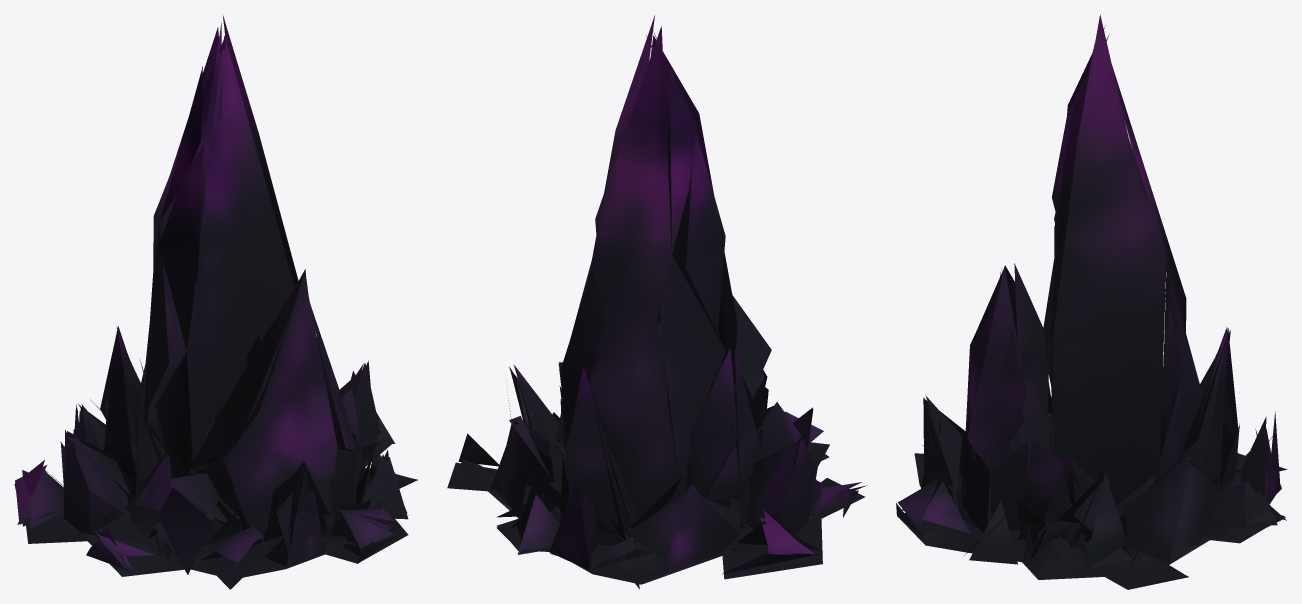
The model's file is biome_spire_lo.glb.
The picture shows the model from 3 angles, left to right: view 1: azimuth 30°, elevation 25°; view 2: azimuth 150°, elevation 25°; view 3: azimuth 270°, elevation 25°; orthographic projection.
Visible parts, largest first — view 1: Mesh_0; view 2: Mesh_0; view 3: Mesh_0.
Boxes of the visible parts, x1,y1,x2,y2 form: Mesh_0: (14,14,417,589); Mesh_0: (447,15,866,589); Mesh_0: (896,14,1287,589).
Bounding box in the file's own units: 9.56 × 12.32 × 8.73.
Materials: 1 (1 with a texture image).
